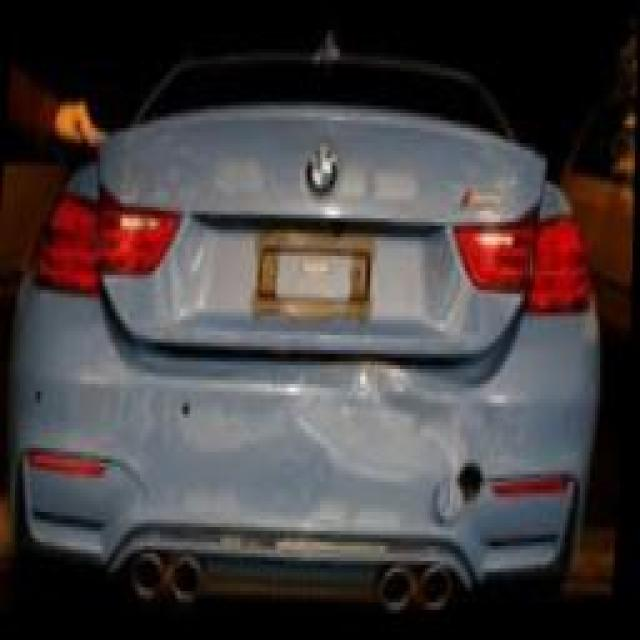Bumper: (94, 309, 568, 546)
Dickey: (93, 110, 553, 392)
